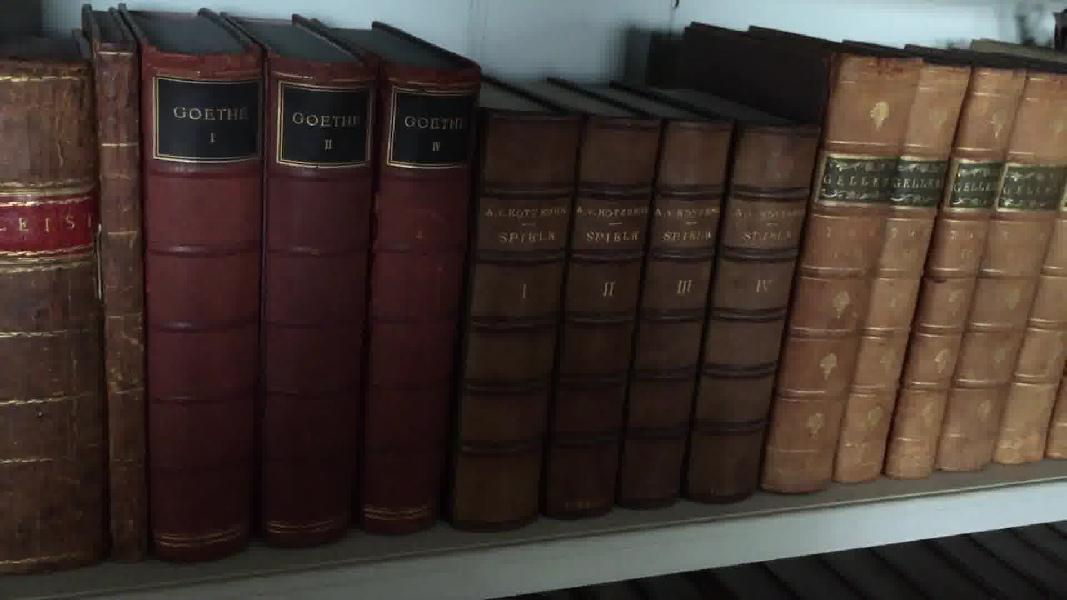Aa6-10: (90, 55, 154, 562)
Aa6-11_13: (136, 40, 462, 542)
Aa6-14_17: (452, 85, 808, 528)
Aa6-18_23: (767, 43, 1067, 504)
